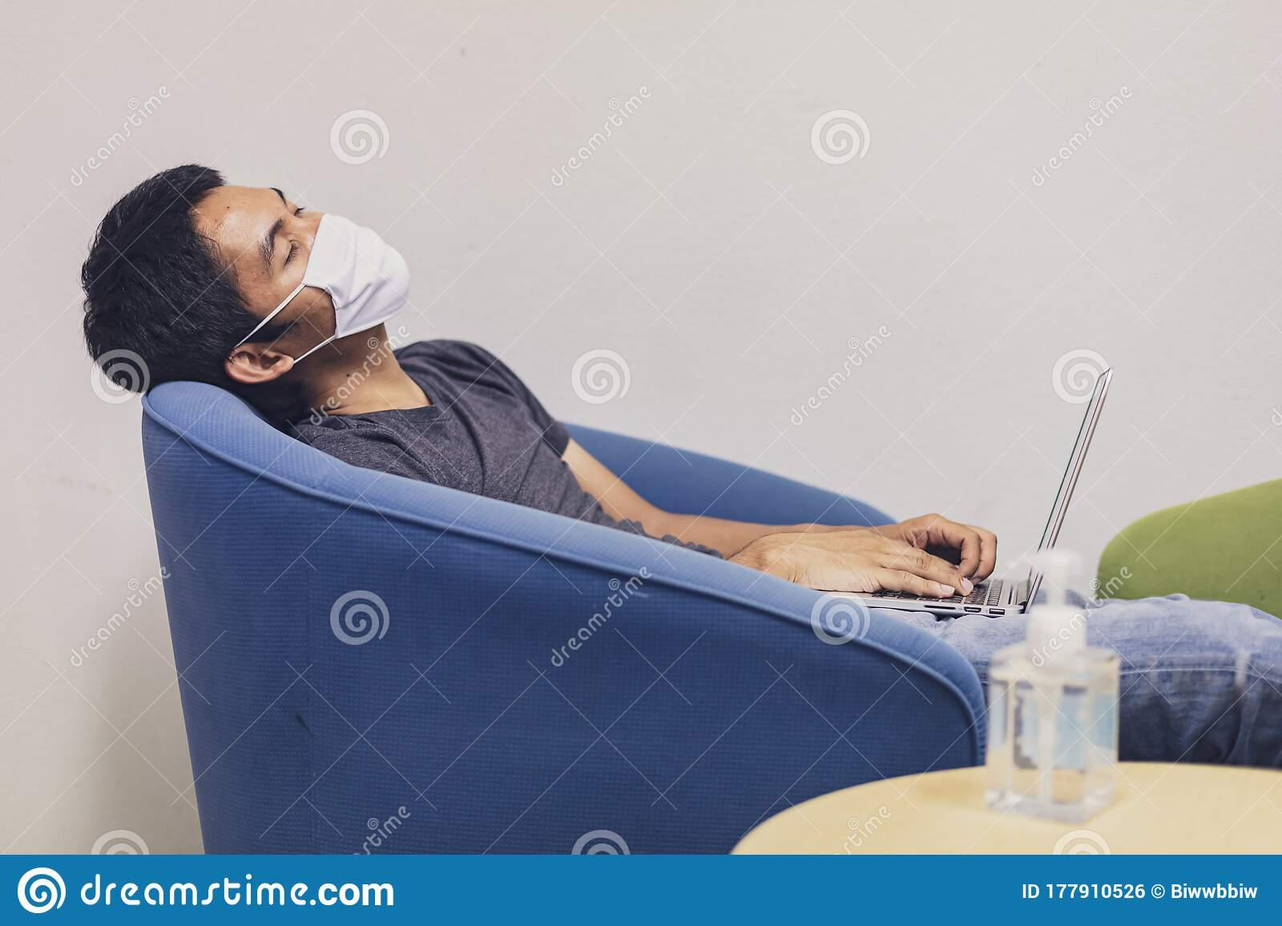OK: (214, 187, 406, 336)
